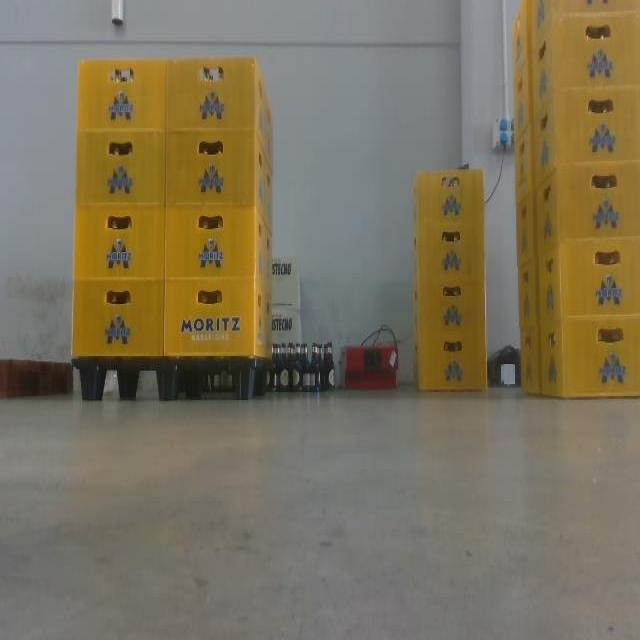block: (75, 361, 101, 406), (117, 362, 142, 402), (233, 365, 260, 402), (157, 364, 179, 408)
front: (71, 355, 263, 410)
